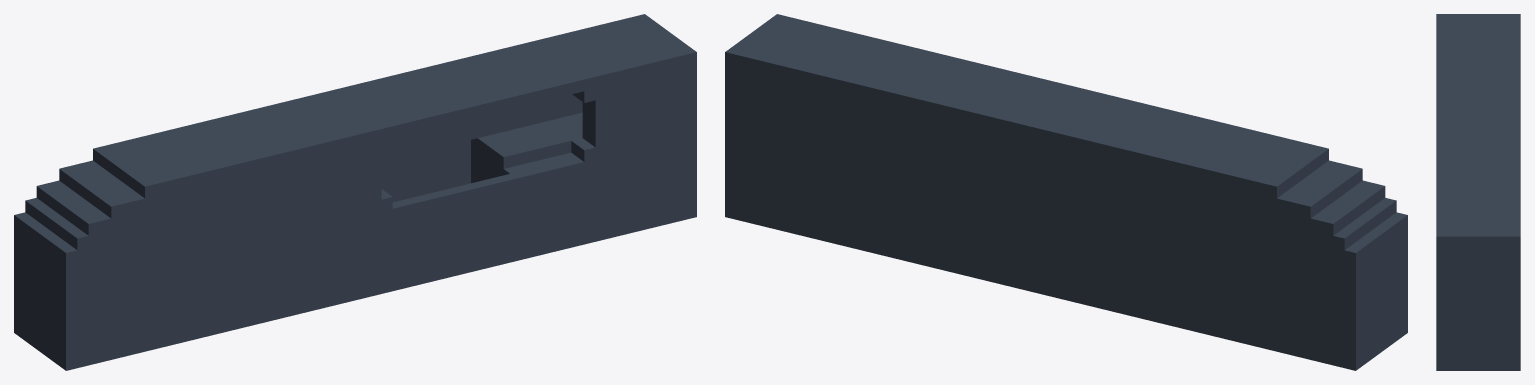
File: receiver_pump.glb
3 renders of one model, left to right at view 1: azimuth 30°, elevation 25°; view 2: azimuth 150°, elevation 25°; view 3: azimuth 270°, elevation 25°, orthographic. The views are drawn at different scales.
Visible parts, largest first — view 1: receiver_pump:receiver; view 2: receiver_pump:receiver; view 3: receiver_pump:receiver.
Part boxes in pixels (x1,y1,x2,y2): receiver_pump:receiver: [14, 14, 696, 370]; receiver_pump:receiver: [725, 14, 1407, 370]; receiver_pump:receiver: [1436, 14, 1520, 370].
Size of the model in its own units: 0.224 by 0.056 by 0.032.
